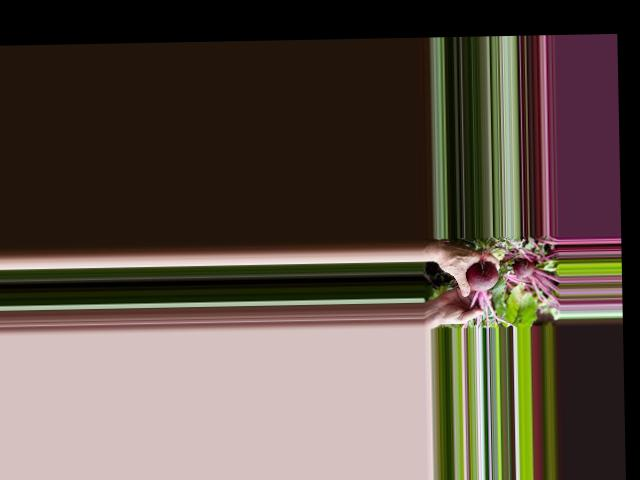beet: (464, 260, 517, 328)
